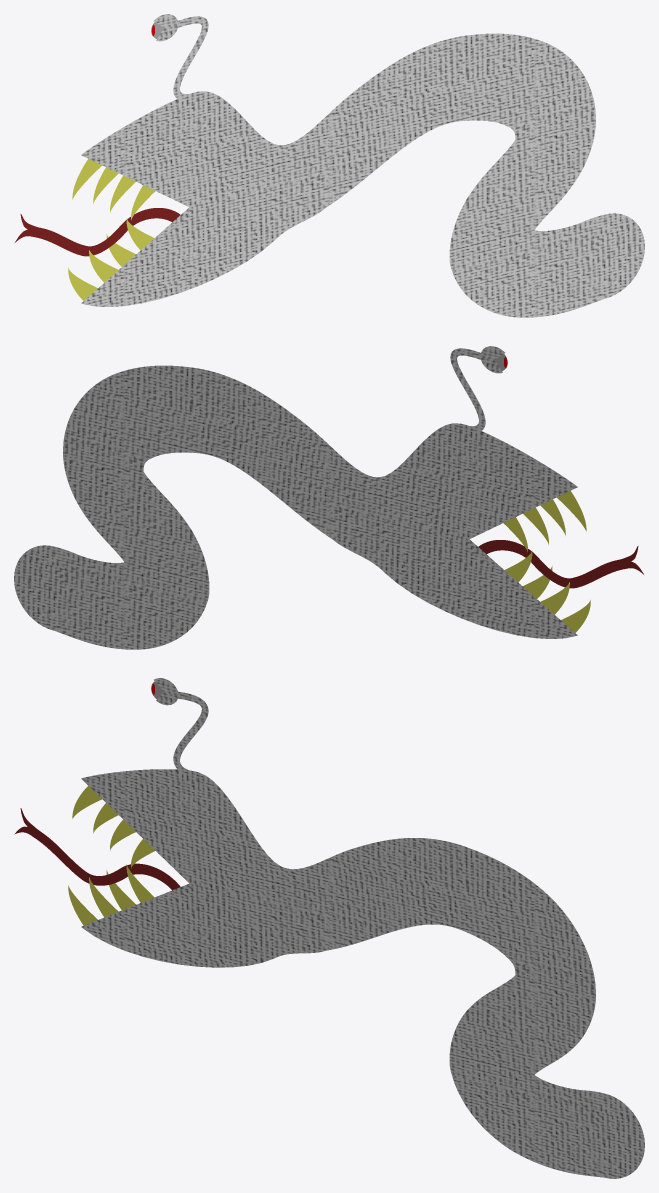
The model's file is boss2.obj.
3 renders of one model, top to bottom at view 1: azimuth 30°, elevation 25°; view 2: azimuth 150°, elevation 25°; view 3: azimuth 330°, elevation 25°, orthographic.
Visible parts, largest first — view 1: Curve.014_CUpath907; view 2: Curve.014_CUpath907; view 3: Curve.014_CUpath907.
Boxes of the visible parts, x1,y1,x2,y2 form: Curve.014_CUpath907: (15, 14, 644, 317); Curve.014_CUpath907: (14, 346, 643, 649); Curve.014_CUpath907: (14, 678, 644, 1178).
Bounding box in the file's own units: 1.01 × 0.6031 × 1e-05.
Materials: 5 (1 with a texture image).
